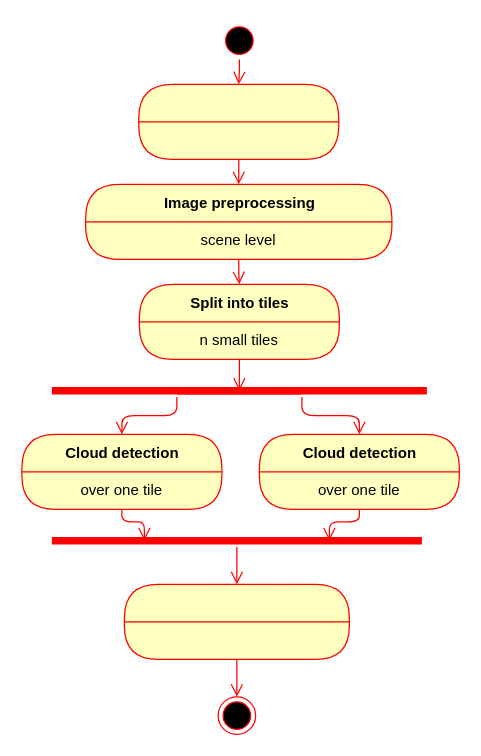
Image size: 481x756. Some labels were removed from this diagram. The centre of each missing label's shape, as x and y in pixels:
"Estimate cloud coverage" belongs at pixel 236 621.
"TMI reception" belongs at pixel 238 121.
